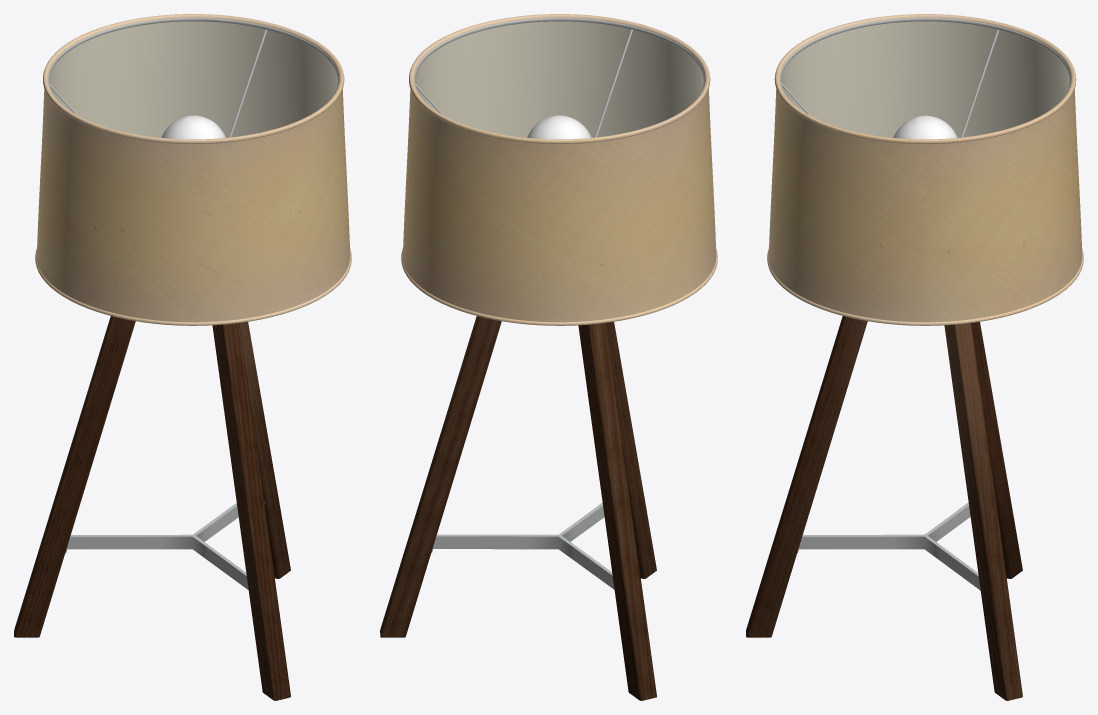
The model's file is lamp.FBX.
3 views of the same model, side by side, from view 1: azimuth 30°, elevation 25°; view 2: azimuth 150°, elevation 25°; view 3: azimuth 270°, elevation 25° (orthographic).
Parts seen in each view (by area): view 1: lampshadeOuter_GES, lampshadeInner_GES, lampLegs0001_GES, lampLegBracket0002_GES, lampshadeFrame0001_GES, lightBulb0001_GES; view 2: lampshadeOuter_GES, lampshadeInner_GES, lampLegs0001_GES, lampLegBracket0002_GES, lampshadeFrame0001_GES, lightBulb0001_GES; view 3: lampshadeOuter_GES, lampshadeInner_GES, lampLegs0001_GES, lampLegBracket0002_GES, lampshadeFrame0001_GES, lightBulb0001_GES.
Boxes of the visible parts, left/top/right/bottom form: lampshadeOuter_GES: left=35, top=14, right=351, bottom=325; lampshadeInner_GES: left=49, top=21, right=337, bottom=137; lampLegs0001_GES: left=14, top=316, right=290, bottom=700; lampLegBracket0002_GES: left=65, top=502, right=264, bottom=589; lampshadeFrame0001_GES: left=48, top=18, right=338, bottom=137; lightBulb0001_GES: left=161, top=115, right=225, bottom=139; lampshadeOuter_GES: left=401, top=14, right=717, bottom=325; lampshadeInner_GES: left=415, top=21, right=703, bottom=137; lampLegs0001_GES: left=380, top=316, right=656, bottom=700; lampLegBracket0002_GES: left=431, top=503, right=614, bottom=589; lampshadeFrame0001_GES: left=414, top=18, right=704, bottom=137; lightBulb0001_GES: left=527, top=115, right=591, bottom=139; lampshadeOuter_GES: left=767, top=14, right=1083, bottom=325; lampshadeInner_GES: left=781, top=21, right=1069, bottom=137; lampLegs0001_GES: left=746, top=316, right=1022, bottom=700; lampLegBracket0002_GES: left=797, top=502, right=980, bottom=590; lampshadeFrame0001_GES: left=780, top=18, right=1070, bottom=137; lightBulb0001_GES: left=893, top=115, right=957, bottom=139.
Size of what is drawn, in the model's own units: 2.08 by 4.01 by 2.2.
